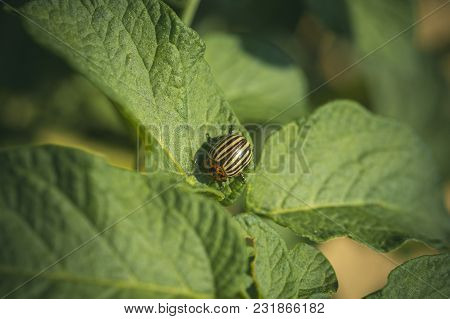hrosc: (192, 124, 249, 184)
